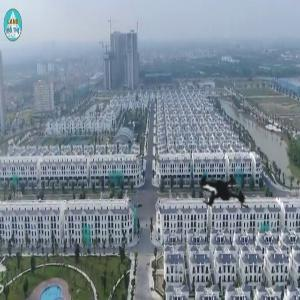drone: (151, 140, 291, 280)
